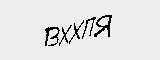В: (43, 26, 59, 49)
П: (79, 15, 95, 40)
Х: (69, 19, 84, 45), (57, 25, 72, 46)
Я: (90, 12, 112, 41)
